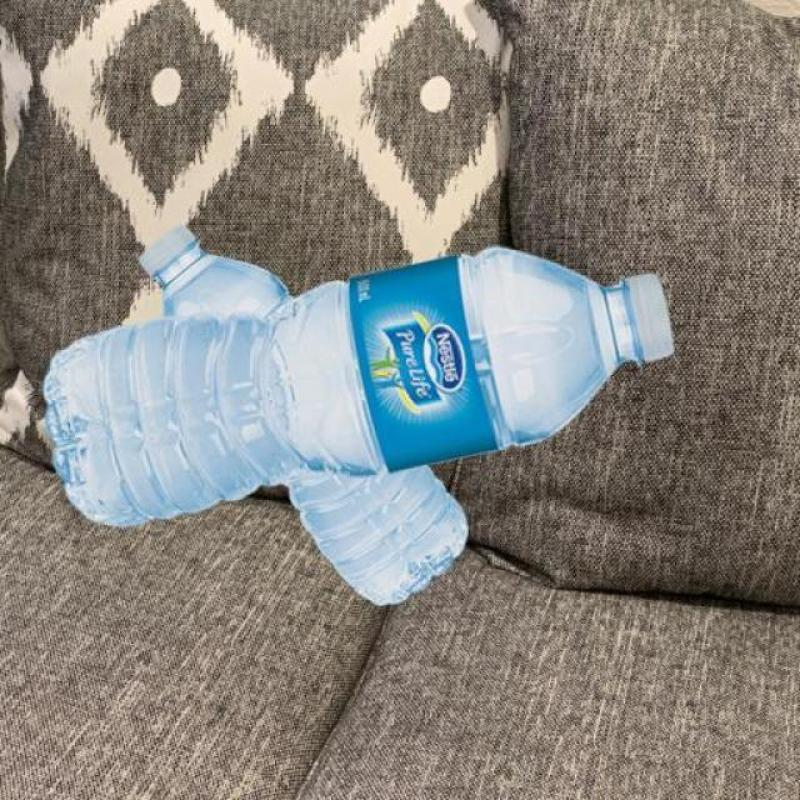botella: (34, 246, 680, 534), (139, 225, 470, 607)
